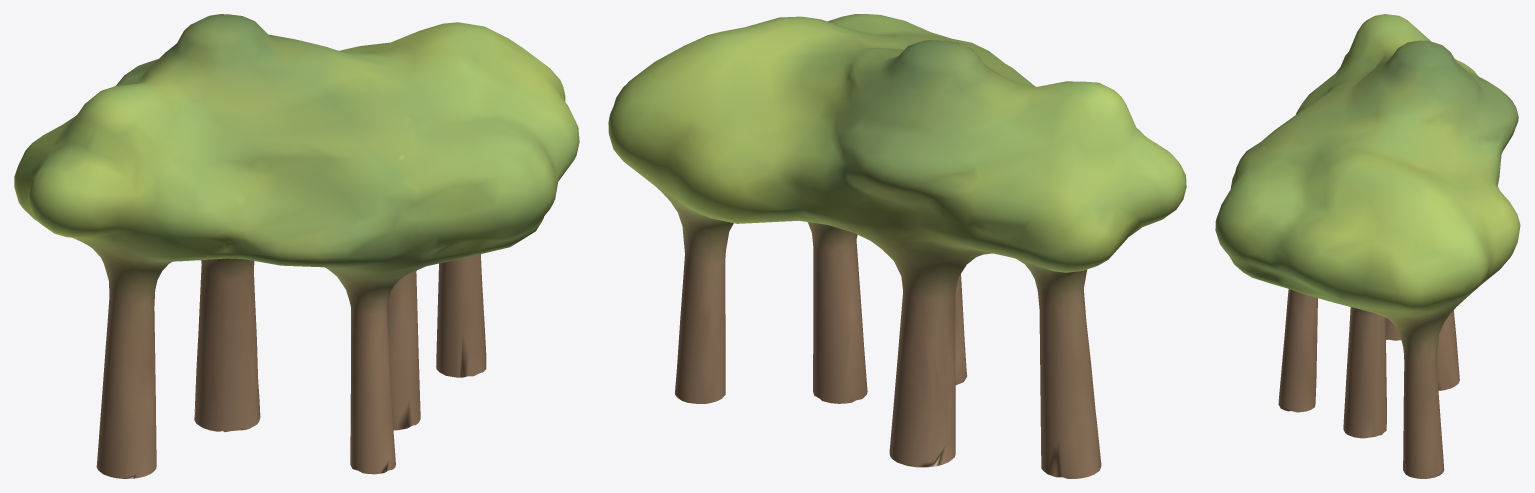
File: cluster9.glb
3 views of the same model, side by side, from view 1: azimuth 30°, elevation 25°; view 2: azimuth 150°, elevation 25°; view 3: azimuth 270°, elevation 25° (orthographic). The views are drawn at different scales.
Parts seen in each view (by area): view 1: body; view 2: body; view 3: body.
Boxes of the visible parts, x1=… form: body: x1=14, y1=14, x2=579, y2=478; body: x1=608, y1=14, x2=1186, y2=478; body: x1=1215, y1=14, x2=1520, y2=478.
Size of the model in its own units: 10.49 by 7.48 by 6.28.
